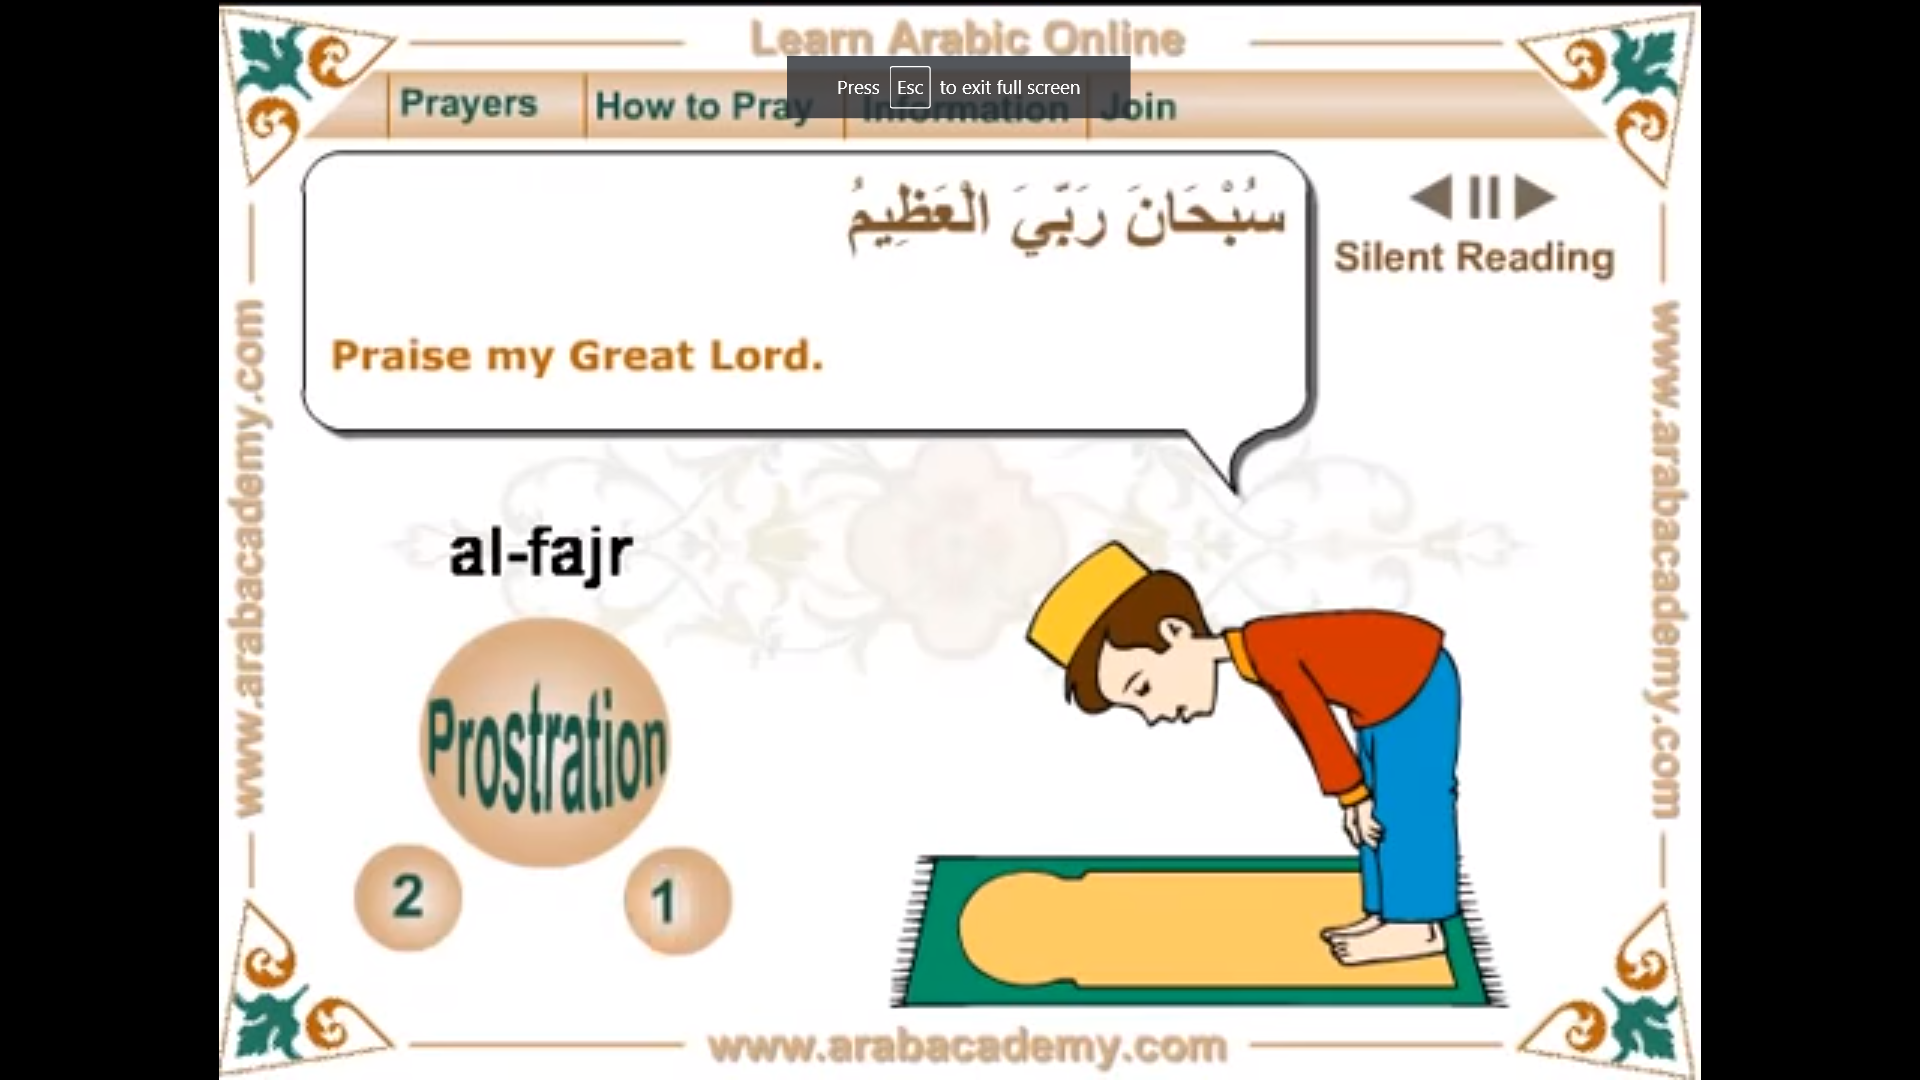ruku: (924, 526, 1625, 978)
